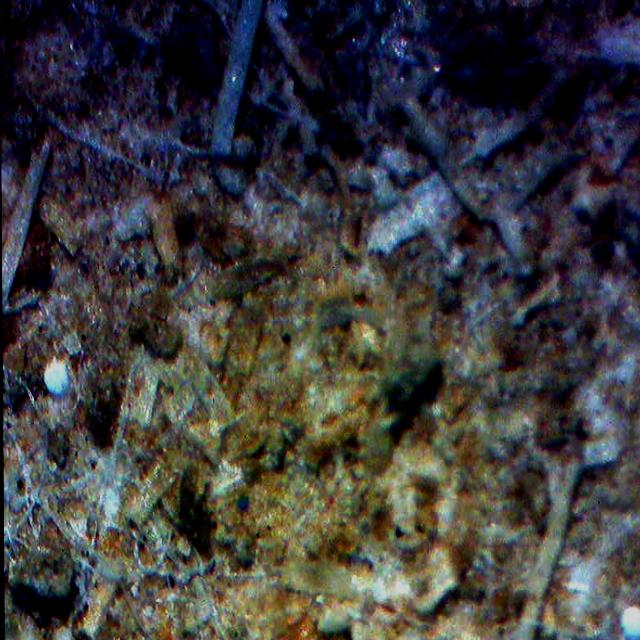microplastic: (237, 494, 248, 509)
